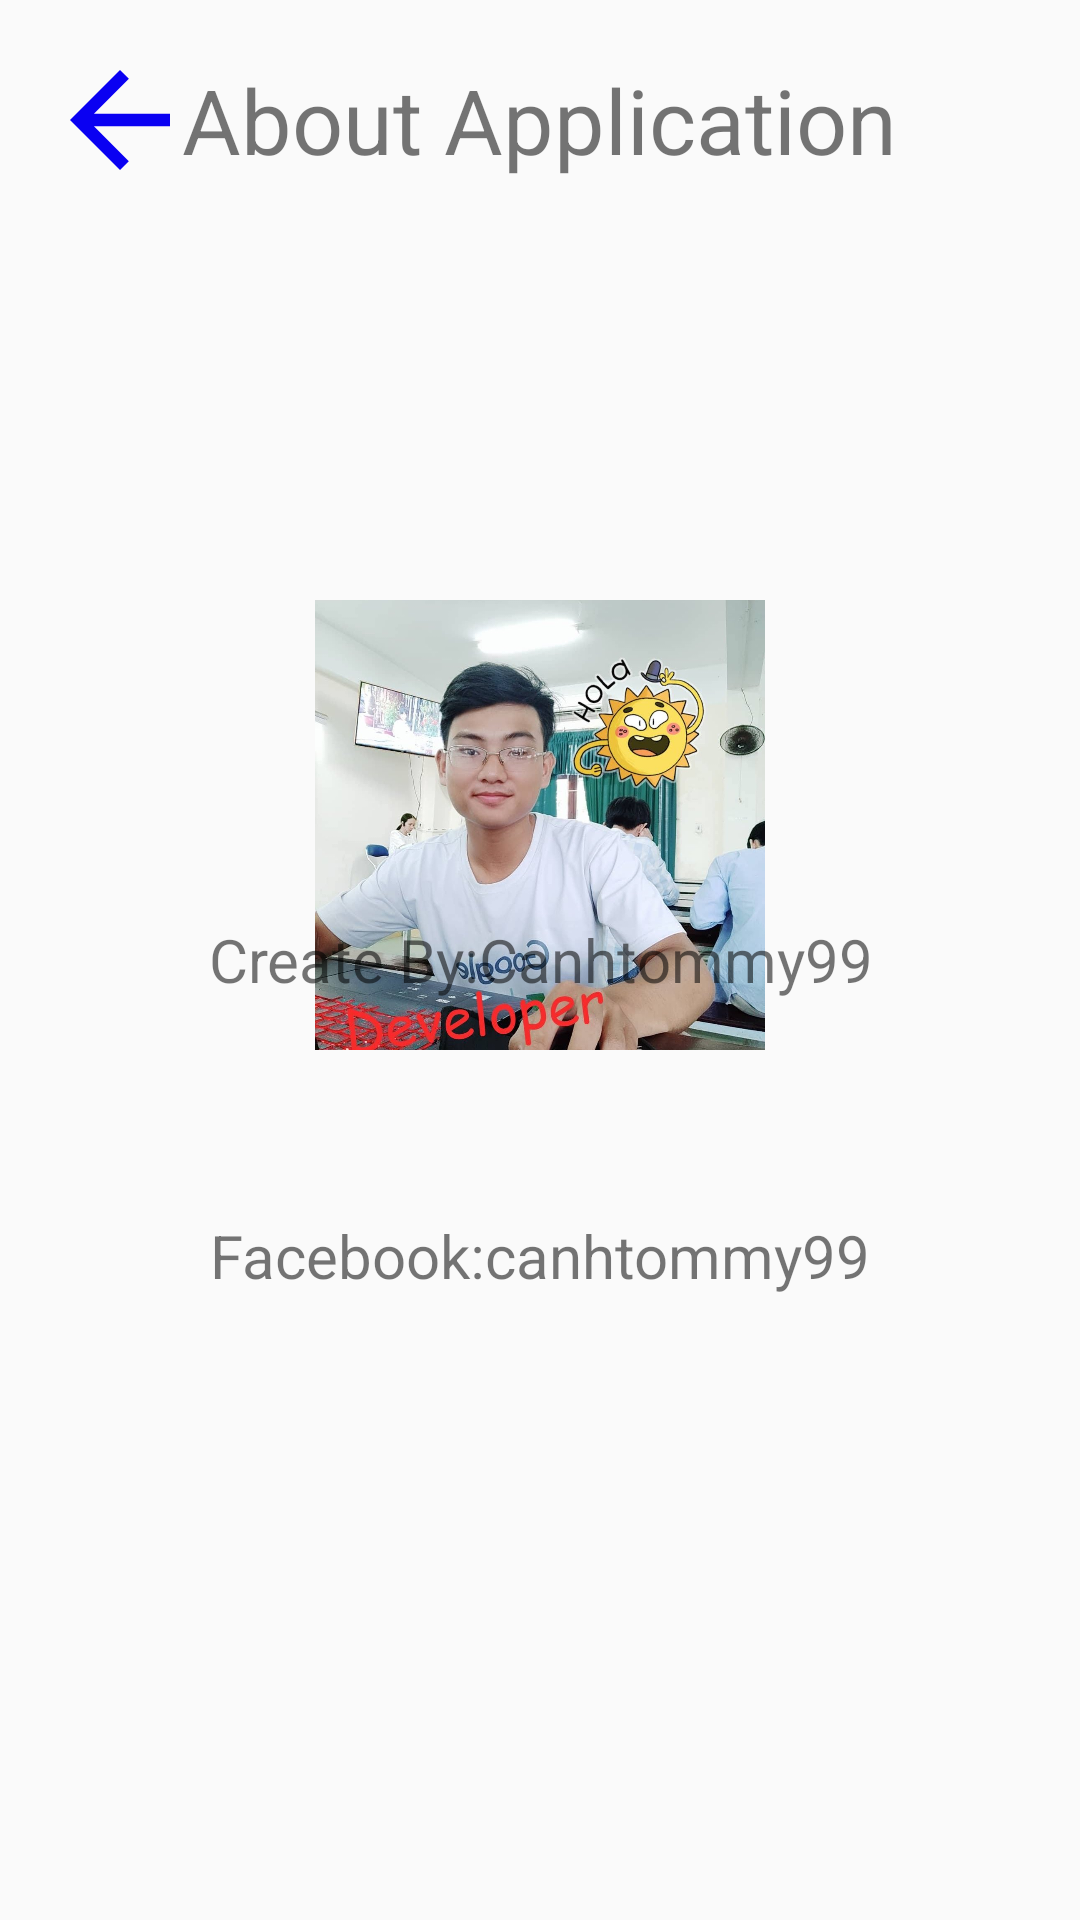

Screen size 1080 × 1920. Icon name, then its box in pixels as [left=x1, top=y1, right=x2, bottom=y2]:
arrow back: [left=70, top=70, right=170, bottom=170]
